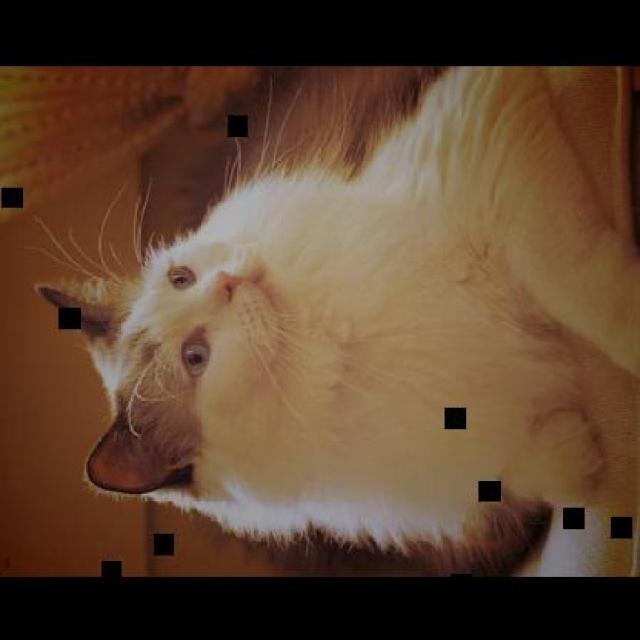unauthorized: (24, 64, 638, 576)
